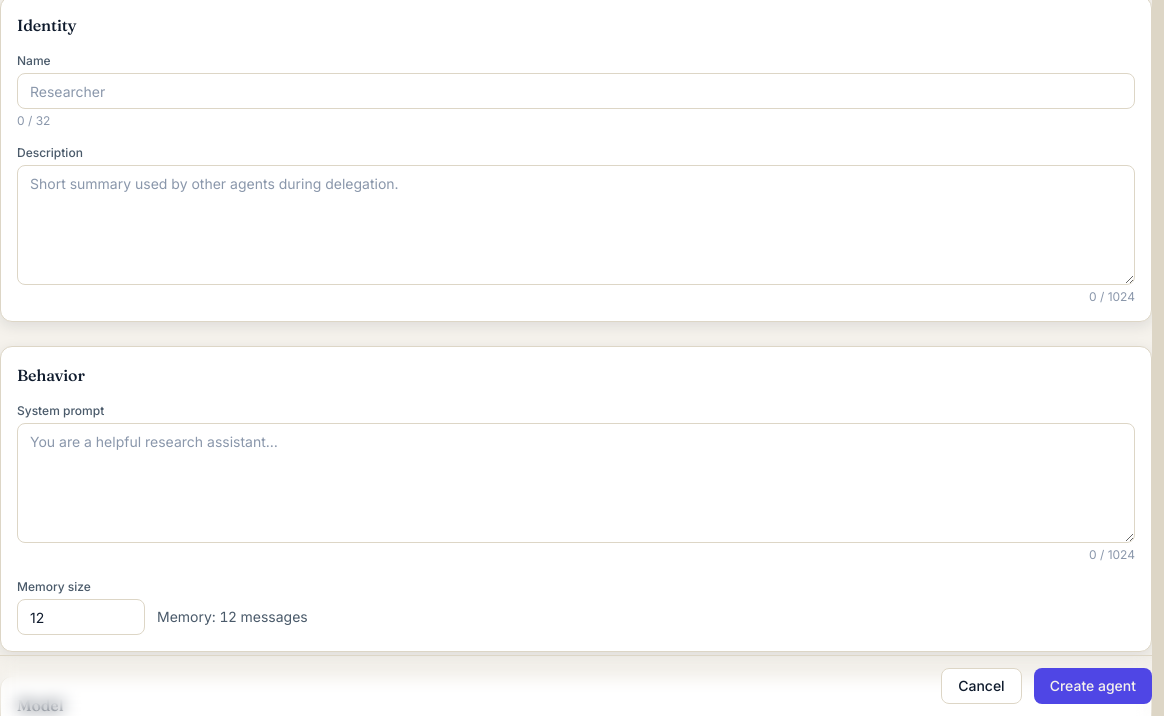
AgentForm — create mode › 400 VALIDATION_ERROR with a known field maps to that field
The image size is (1164, 716).
Type "a" into the field labelled "Name". click: (576, 91)
box: [17,73,1135,109]
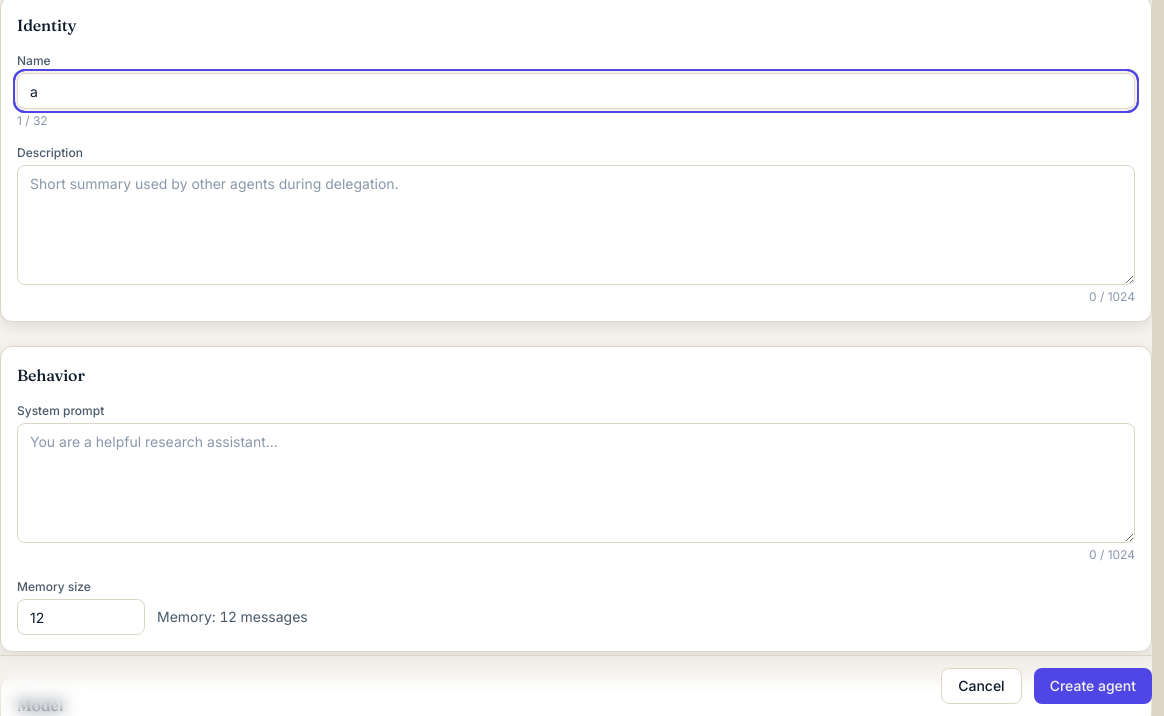
Type "d" into the text box labelled "Description". click: (576, 225)
box: [17,165,1135,285]
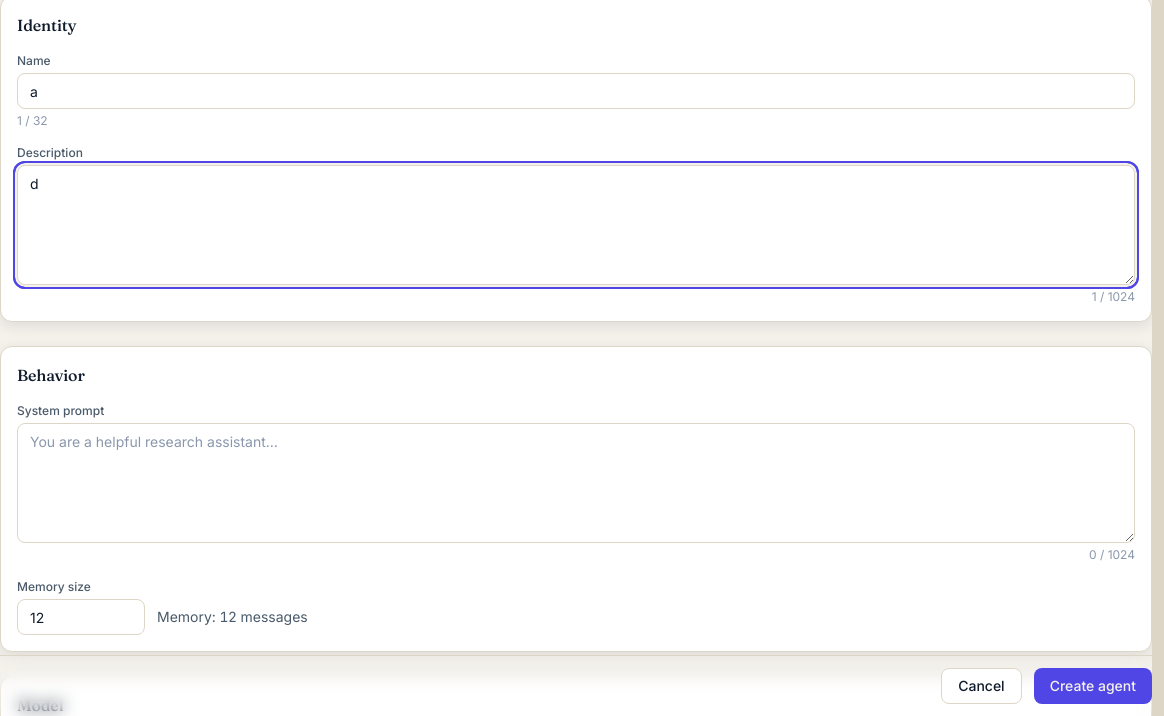
Type "s" into the text box labelled "System prompt". click: (576, 483)
box: [17,423,1135,543]
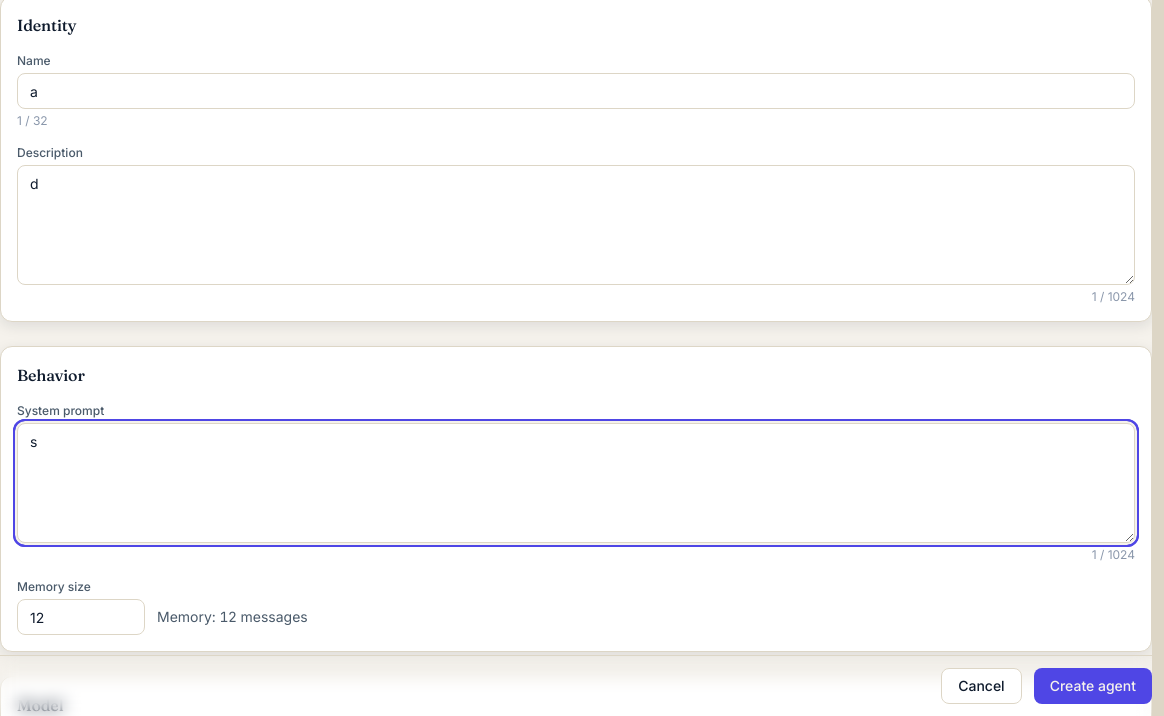
Click the button "Create agent". click: (1093, 686)
box: [1034,668,1152,704]
(page scrolled)
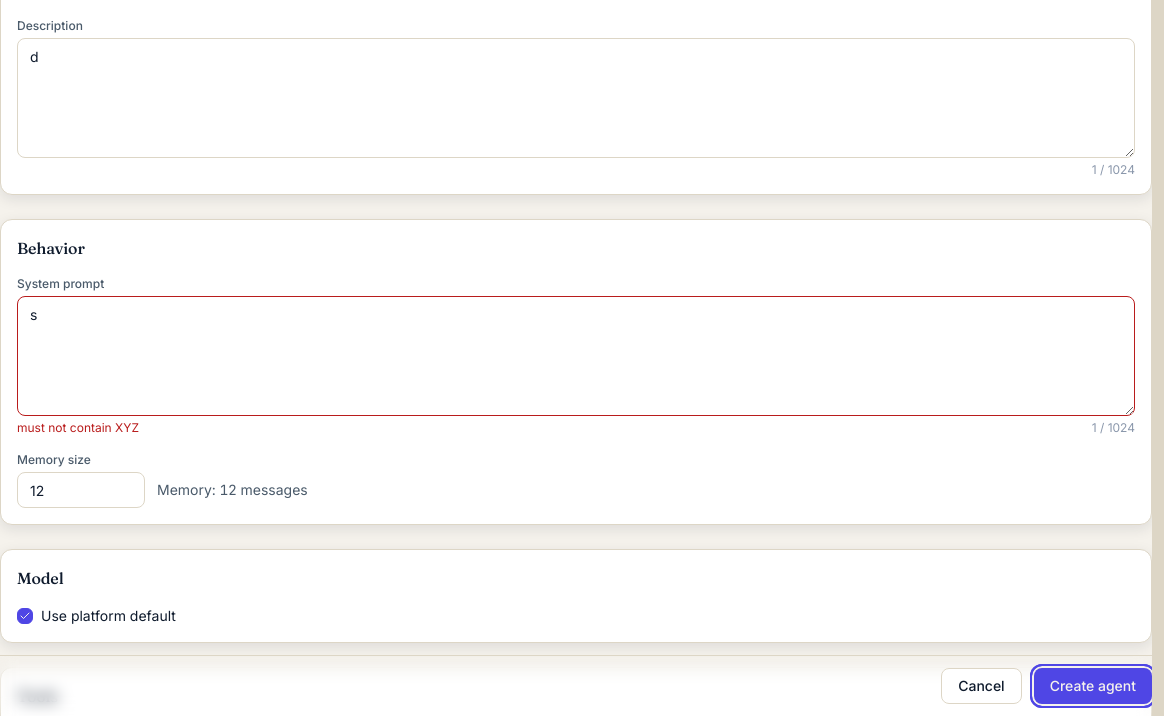
Now the text "must not contain XYZ" is shown, box [17,420,139,436]
